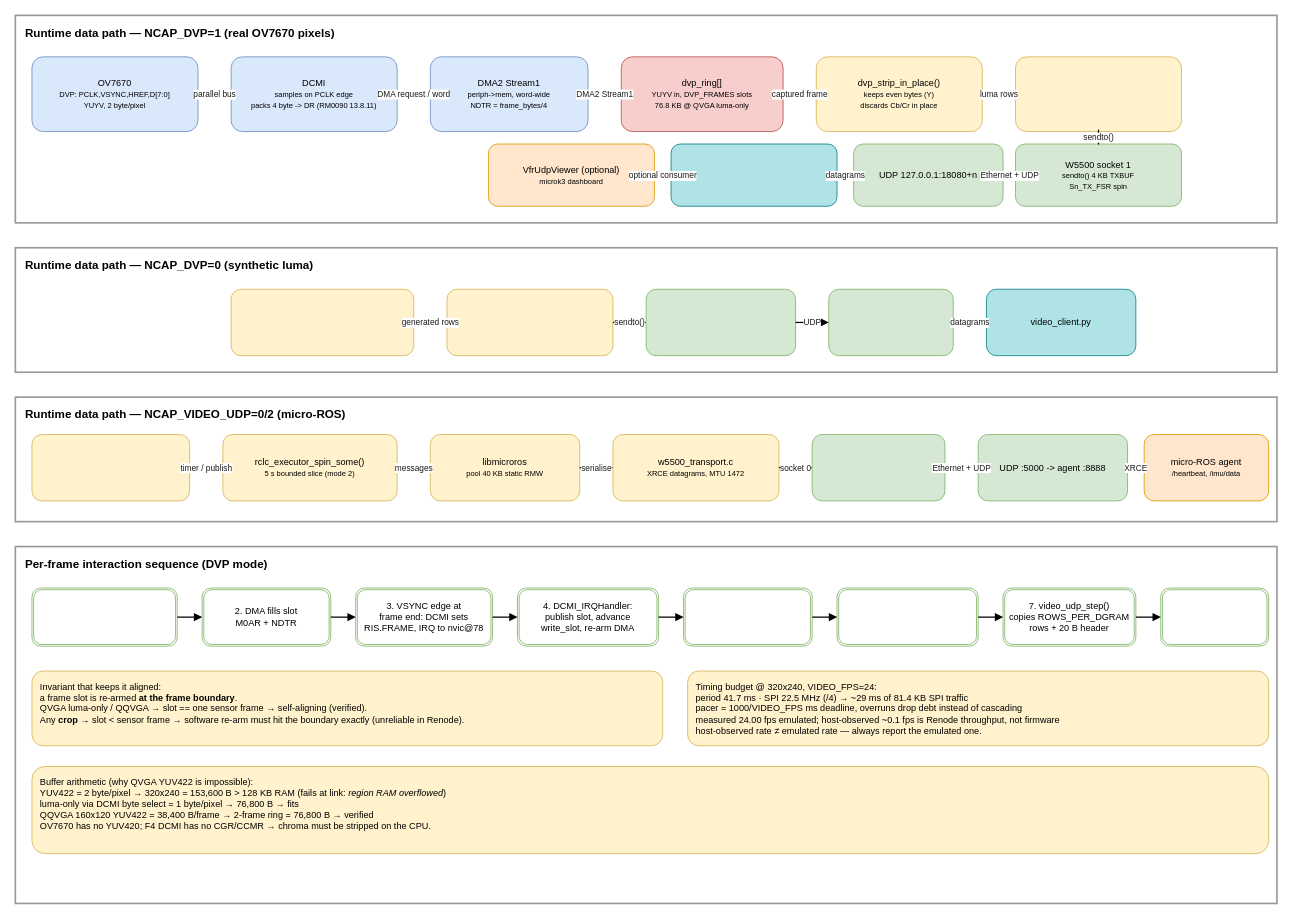
Image size: 1291x918. Some labels were removed from this diagram. The centre of each missing label's shape, as x and y in pixels:
1. sensor clocks PCLK bytes; DCMI packs words, requests DMA: (104,616)
5. DCMI stops capture (snapshot CM) until next frame start: (747,616)
6. take_frame(): strip Y in place, set pointer (main loop, not ISR): (907,616)
8. sendto() per block; deadline pacer to VIDEO_FPS: (1214,616)
IMU timer /heartbeat PUB_PERIOD 1000 ms: (110,467)
synth_line() ramp + walking band + bar row-at-a-time, no frame buffer: (322,322)
UDP :18080: (890,322)
video_client.py reassemble + verify: (753,174)
video_udp_step() HDR_LEN=20 row blocks ROWS_PER_DGRAM=(1400-20)/W: (1098,94)
video_udp_step() same framing, synthetic rows: (529,322)
W5500 socket 0: (878,467)
W5500 socket 1: (720,322)
